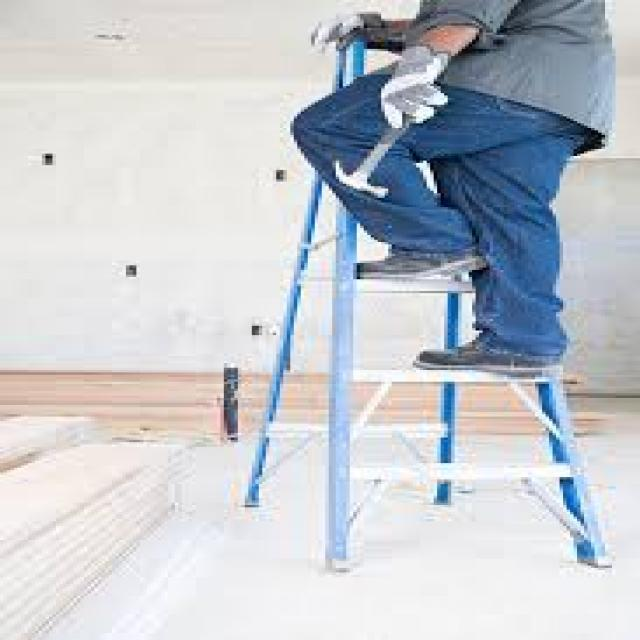hammer: (316, 79, 453, 205)
